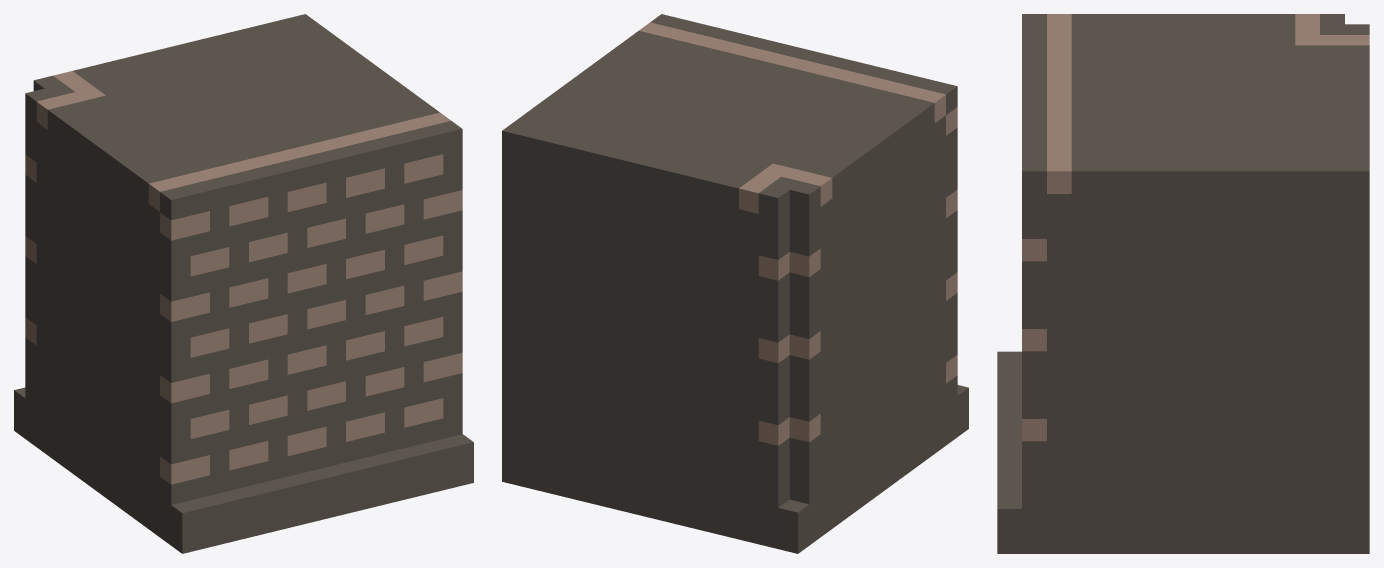
The model's file is dungeon_a_a_outer_wall_segment_d.obj.
The picture shows the model from 3 angles, left to right: view 1: azimuth 30°, elevation 25°; view 2: azimuth 150°, elevation 25°; view 3: azimuth 270°, elevation 25°; orthographic projection. The views are drawn at different scales.
Size of the model in its own units: 1.5 by 1.7 by 1.5.
1 material, 1 textured.
